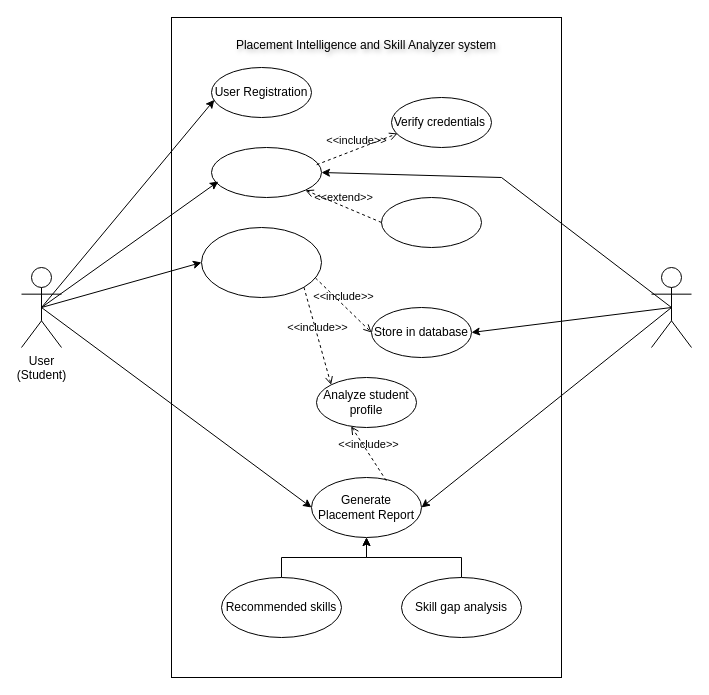
Some shapes in this 709 by 695 pixel diagram are drawn without their labels. The box of each missing label's shape, as (x1, y1, x2, y2) in pixels:
Admin: (650, 266, 692, 348)
Display log in error: (380, 196, 482, 248)
Enter academic and skill details: (200, 226, 322, 298)
Log in: (210, 146, 322, 198)
